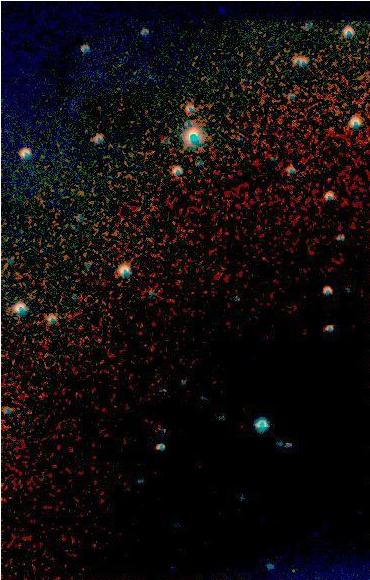star: (278, 558, 308, 580)
